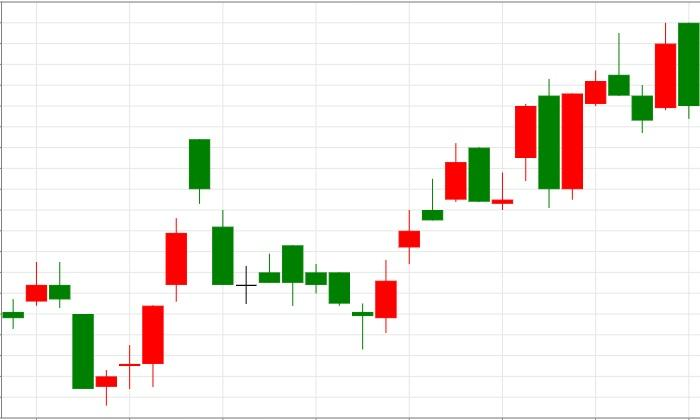bearish_engulfing_fall: (351, 78, 560, 350)
